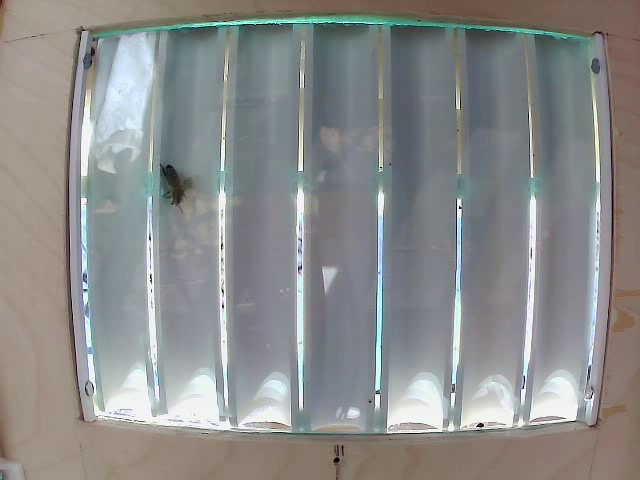bee: (155, 159, 200, 211)
